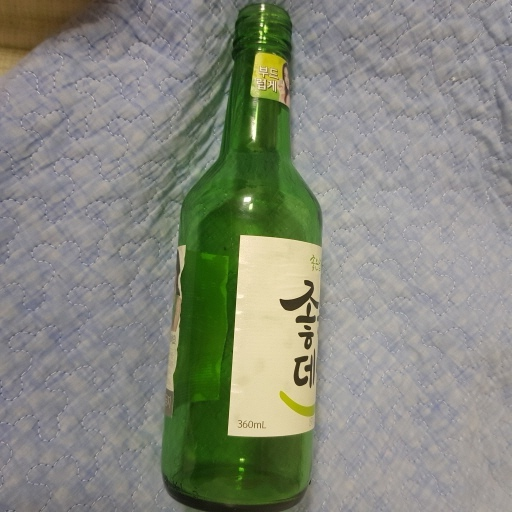Glass_0: (159, 4, 325, 512)
